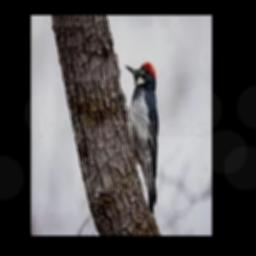Woodpecker: (124, 61, 158, 215)
